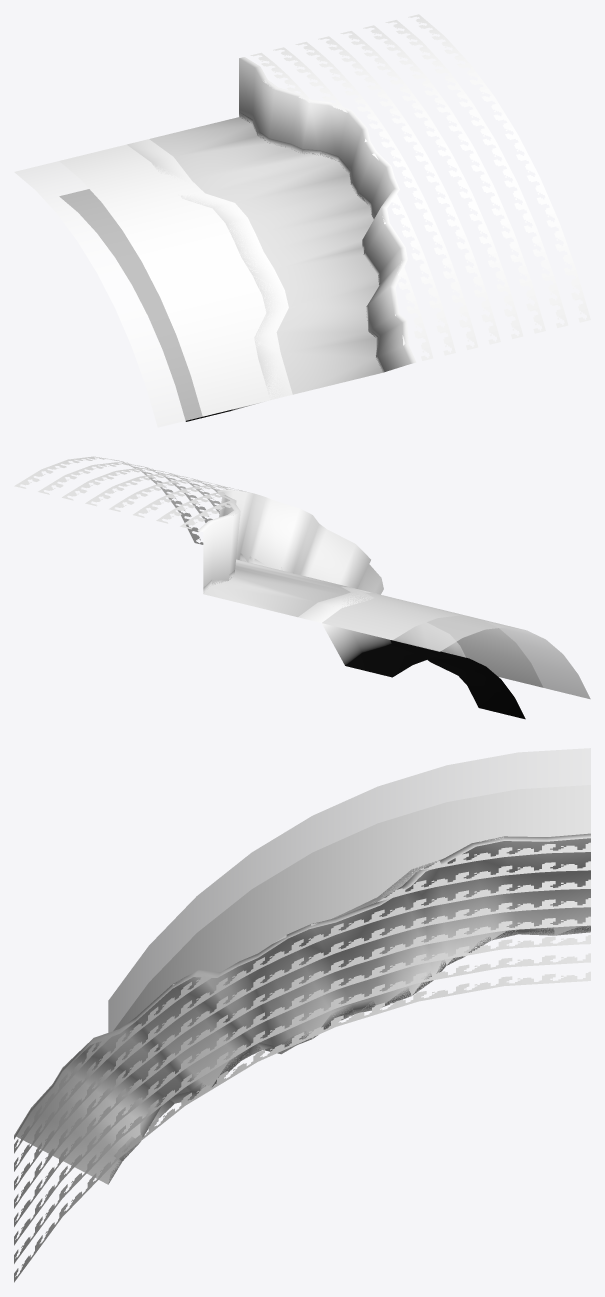
File: grd_Mw_0.dae
The picture shows the model from 3 angles, top to bottom: view 1: azimuth 30°, elevation 25°; view 2: azimuth 150°, elevation 25°; view 3: azimuth 270°, elevation 25°; orthographic projection. The views are drawn at different scales.
Visible parts, largest first — view 1: grd_Mw_0; view 2: grd_Mw_0; view 3: grd_Mw_0.
Part boxes in pixels (bbox=[...]): grd_Mw_0: bbox=[14, 14, 590, 427]; grd_Mw_0: bbox=[14, 456, 590, 719]; grd_Mw_0: bbox=[14, 748, 590, 1282].
Bounding box in the file's own units: 576 × 308 × 423.
Materials: 6 (1 with a texture image).
